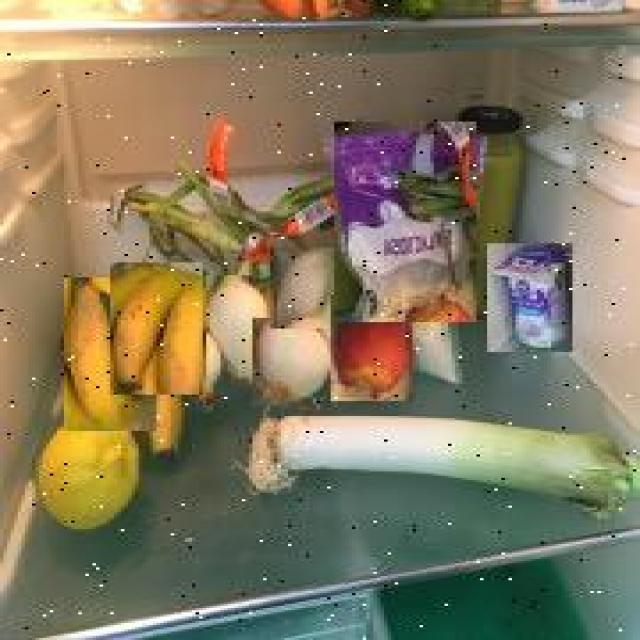apple: (330, 294, 412, 401)
banana: (64, 277, 156, 431), (110, 262, 203, 395)
grated_cheese: (336, 123, 478, 323)
leek: (247, 412, 638, 522)
lemon: (38, 405, 140, 538)
onion: (206, 275, 270, 388), (255, 319, 332, 408), (270, 248, 338, 328)
yogurt: (489, 243, 574, 352)
